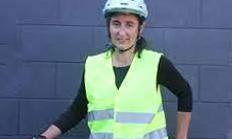Vest: (88, 52, 165, 139)
